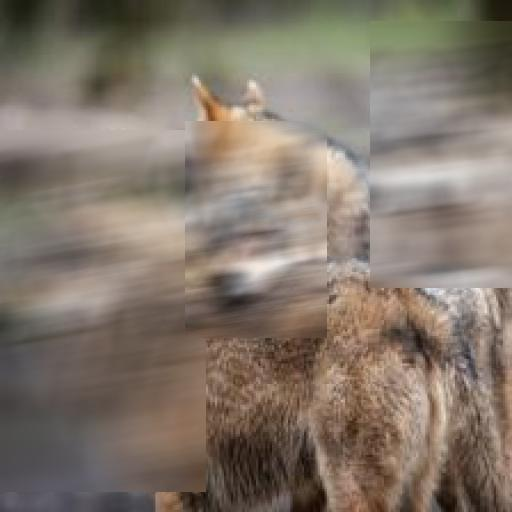wolf: (0, 130, 206, 492), (370, 21, 512, 288), (185, 121, 327, 338)
